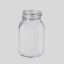plastic: (17, 7, 50, 58), (0, 28, 6, 43)
